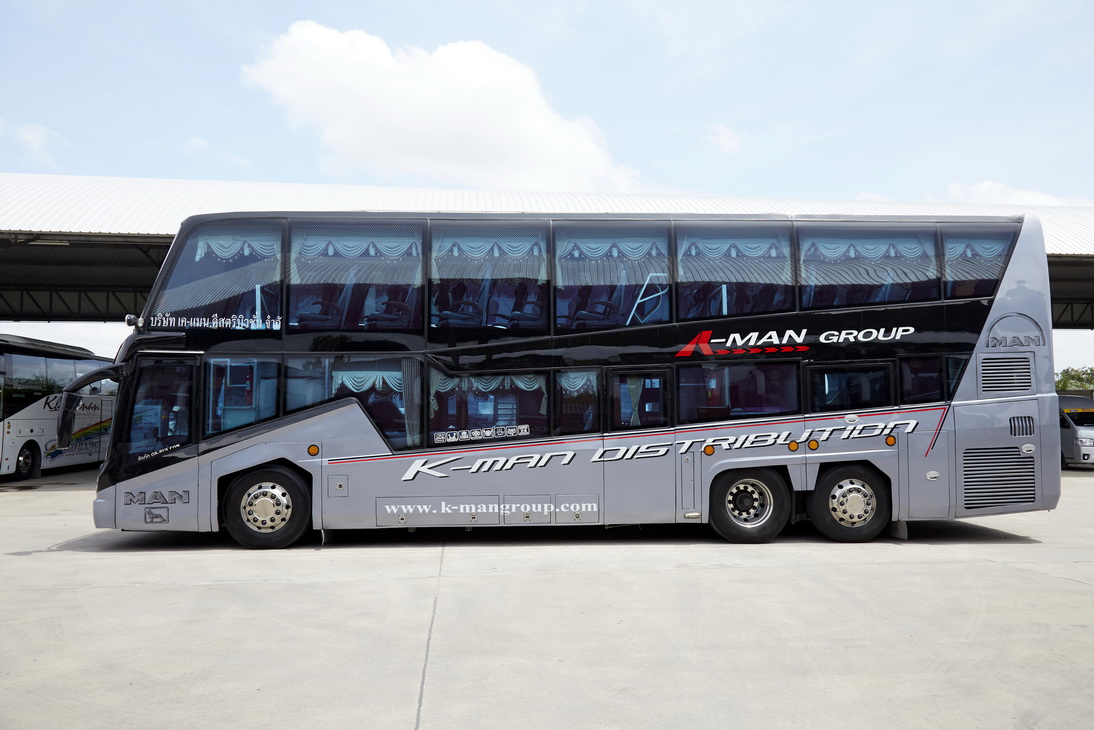bus: (95, 207, 1061, 548)
